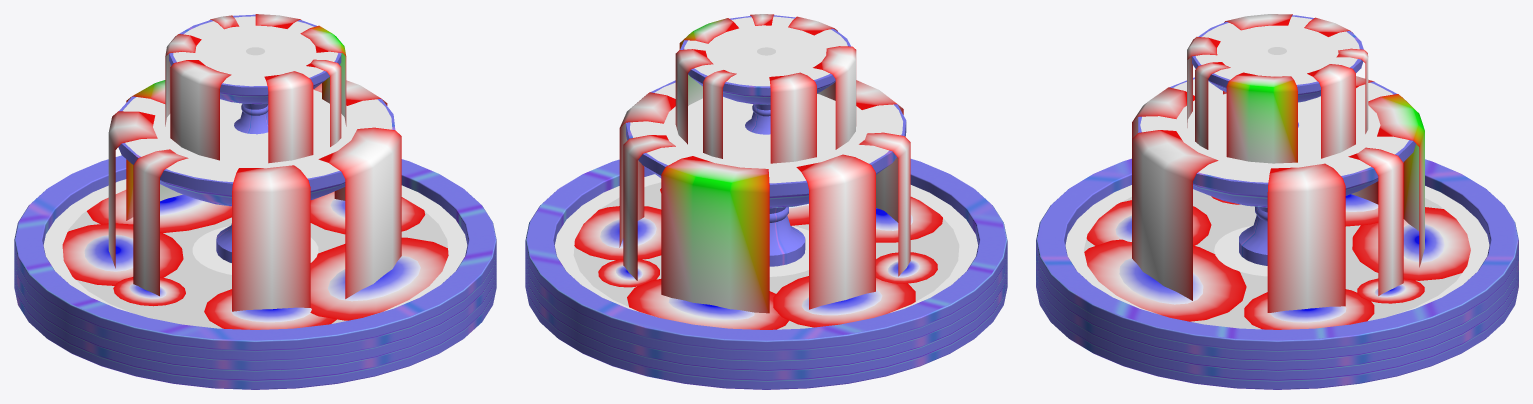
File: Fountain.fbx
3 views of the same model, side by side, from view 1: azimuth 30°, elevation 25°; view 2: azimuth 150°, elevation 25°; view 3: azimuth 270°, elevation 25° (orthographic).
Visible parts, largest first — view 1: FountainPiece1, WaterFallsBottom, WaterFallsMid, MidRipples, TopRipples, BottomWater, BottomRipples, BottomFallsRipples.006, FountainPiece2, BottomFallsRipples, FountainPiece3, BottomFallsRipples.003 (+7 smaller); view 2: FountainPiece1, WaterFallsBottom, WaterFallsMid, MidRipples, TopRipples, BottomRipples, BottomWater, FountainPiece2, BottomFallsRipples, BottomFallsRipples.003, BottomFallsRipples.005, FountainPiece3 (+6 smaller); view 3: FountainPiece1, WaterFallsBottom, WaterFallsMid, MidRipples, TopRipples, BottomWater, BottomFallsRipples.006, BottomRipples, FountainPiece2, BottomFallsRipples.003, BottomFallsRipples.005, FallsSplash.002 (+7 smaller).
Boxes of the visible parts, <box> form: FountainPiece1: <box>14,155,496,389</box>; WaterFallsBottom: <box>108,80,401,311</box>; WaterFallsMid: <box>165,14,346,163</box>; MidRipples: <box>123,89,392,181</box>; TopRipples: <box>173,16,337,86</box>; BottomWater: <box>67,211,447,328</box>; BottomRipples: <box>43,179,467,312</box>; BottomFallsRipples.006: <box>310,237,448,320</box>; FountainPiece2: <box>118,96,395,262</box>; BottomFallsRipples: <box>62,223,183,285</box>; FountainPiece3: <box>169,14,341,134</box>; BottomFallsRipples.003: <box>87,190,231,232</box>; FountainPiece1: <box>525,159,1007,389</box>; WaterFallsBottom: <box>619,80,910,313</box>; WaterFallsMid: <box>675,14,856,163</box>; MidRipples: <box>630,82,902,183</box>; TopRipples: <box>684,16,847,86</box>; BottomRipples: <box>554,174,978,315</box>; BottomWater: <box>573,182,959,329</box>; FountainPiece2: <box>626,80,906,266</box>; BottomFallsRipples: <box>773,276,915,327</box>; BottomFallsRipples.003: <box>627,279,789,329</box>; BottomFallsRipples.005: <box>574,206,661,260</box>; FountainPiece3: <box>680,15,851,134</box>; FountainPiece1: <box>1036,158,1518,389</box>; WaterFallsBottom: <box>1132,76,1424,312</box>; WaterFallsMid: <box>1187,14,1368,163</box>; MidRipples: <box>1140,79,1408,182</box>; TopRipples: <box>1195,16,1359,84</box>; BottomWater: <box>1084,189,1461,329</box>; BottomFallsRipples.006: <box>1084,239,1246,321</box>; BottomRipples: <box>1065,185,1489,314</box>; FountainPiece2: <box>1138,77,1415,265</box>; BottomFallsRipples.003: <box>1352,207,1470,280</box>; BottomFallsRipples.005: <box>1244,289,1374,329</box>; FallsSplash.002: <box>1119,258,1203,304</box>.
Bounding box in the file's own units: 1000 × 547 × 1000.
